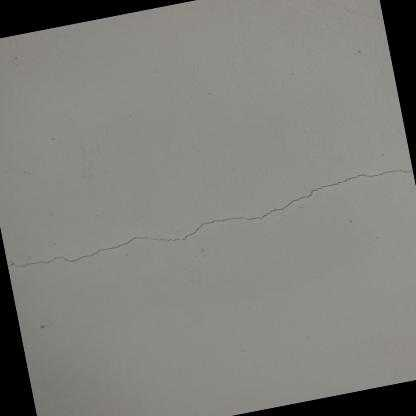crack: (7, 168, 412, 266)
